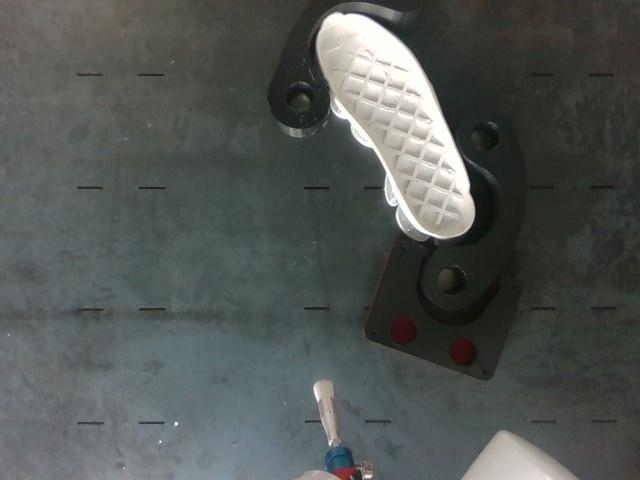shoes: (317, 14, 475, 237)
